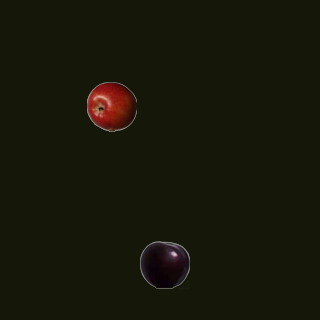Apple Braeburn: (86, 81, 136, 131)
Cherry Wax Black: (139, 239, 189, 289)
